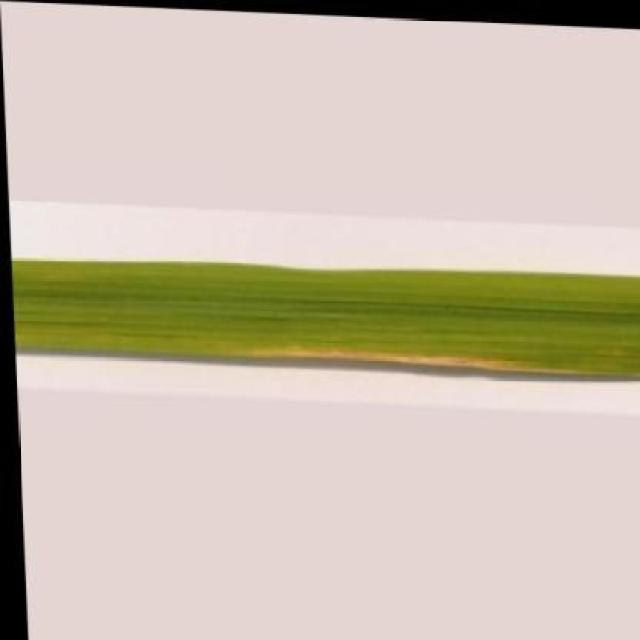Brown_Spot: (9, 244, 640, 384)
